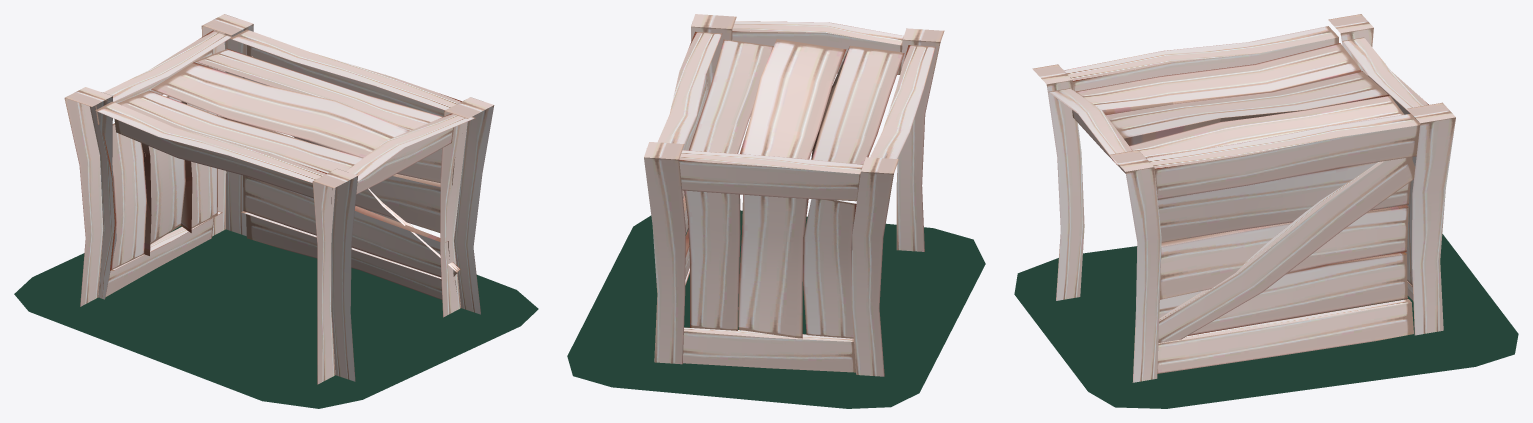
Rendered from TutorialCrate1.fbx.
3 renders of one model, left to right at view 1: azimuth 30°, elevation 25°; view 2: azimuth 150°, elevation 25°; view 3: azimuth 270°, elevation 25°, orthographic. The views are drawn at different scales.
Visible parts, largest first — view 1: CrateBig, ShadowSquareDark; view 2: CrateBig, ShadowSquareDark; view 3: CrateBig, ShadowSquareDark.
Boxes of the visible parts, bbox=[...] form: CrateBig: bbox=[64, 14, 494, 384]; ShadowSquareDark: bbox=[14, 226, 538, 408]; CrateBig: bbox=[644, 14, 944, 376]; ShadowSquareDark: bbox=[567, 210, 985, 408]; CrateBig: bbox=[1032, 14, 1455, 382]; ShadowSquareDark: bbox=[1014, 234, 1518, 408].
Size of the model in its own units: 1.7 by 0.9028 by 1.86.
